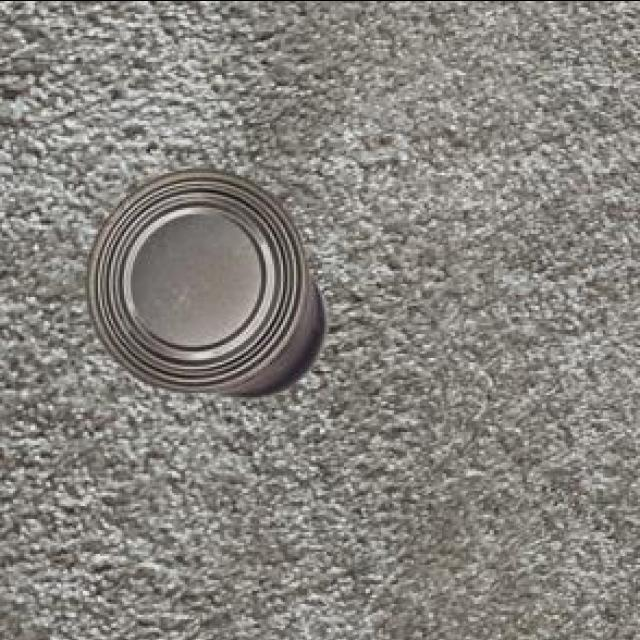logam: (88, 171, 330, 402)
